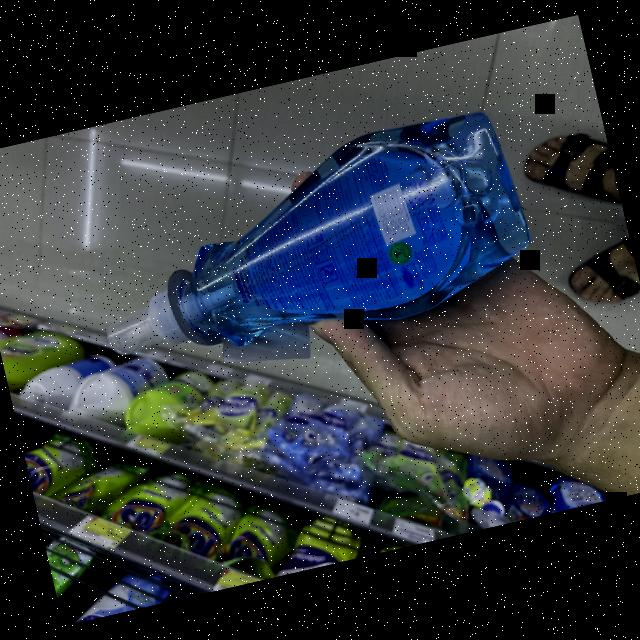chemical_plastic_bottle: (86, 88, 552, 388)
